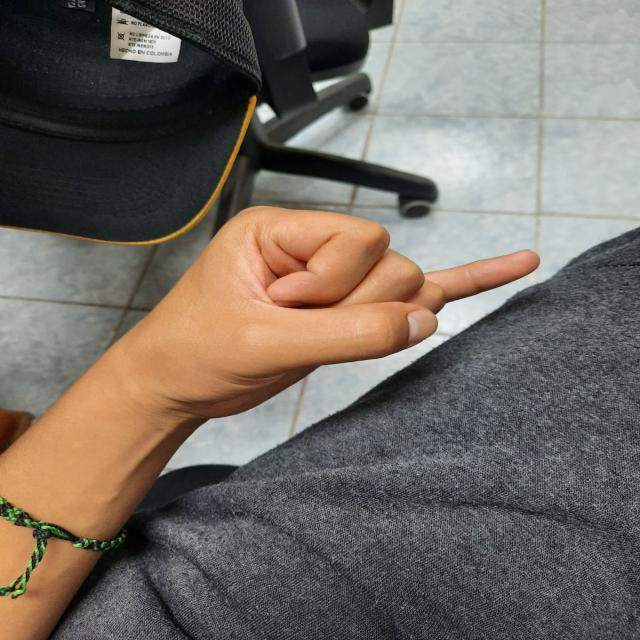Z: (91, 193, 574, 452)
